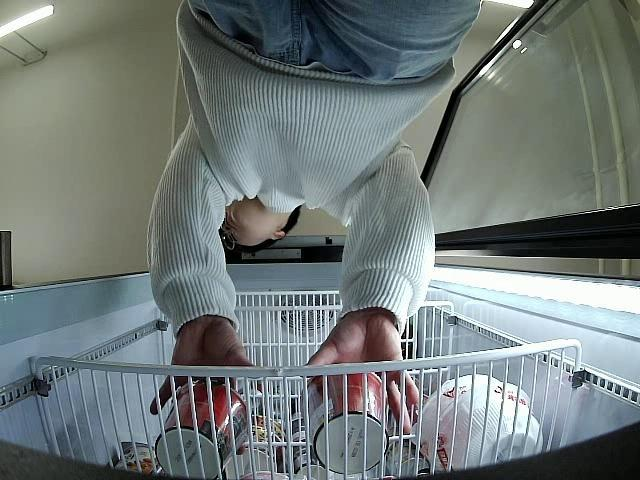02_shinRamen_S: (300, 370, 392, 474), (154, 383, 250, 480)
